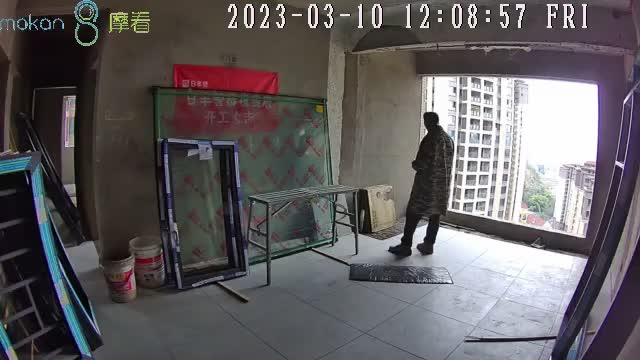people: (387, 113, 456, 257)
window: (417, 74, 599, 241)
